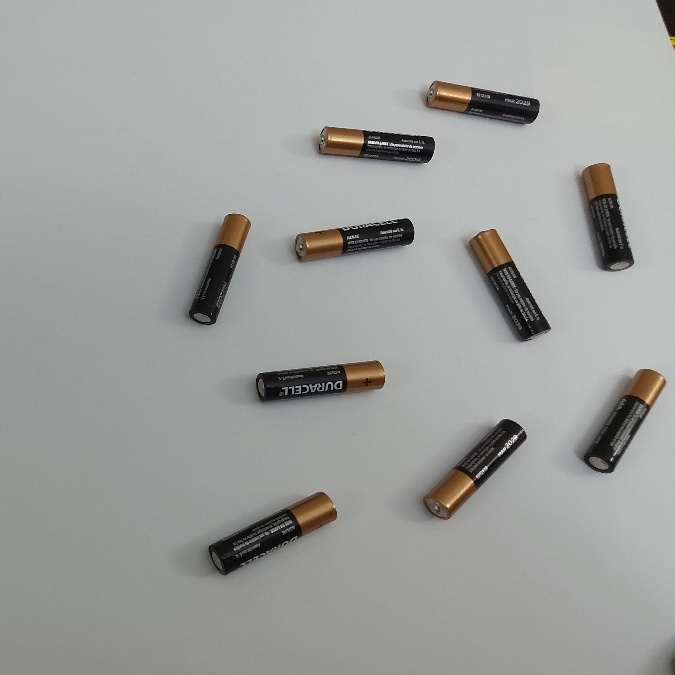battery: (420, 411, 529, 523), (206, 489, 332, 574), (471, 221, 551, 345), (587, 364, 663, 474), (185, 206, 252, 328), (255, 351, 389, 412), (576, 163, 640, 275), (421, 76, 540, 125), (293, 215, 412, 264), (315, 121, 434, 169)
